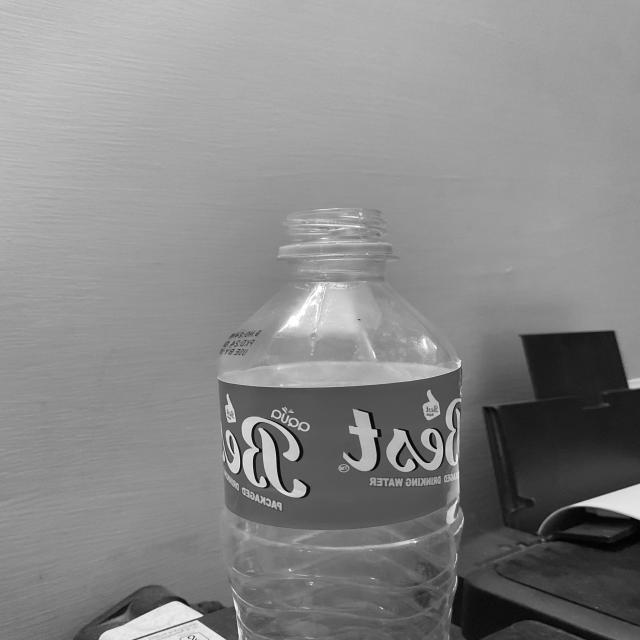open-cap: (277, 206, 394, 256)
